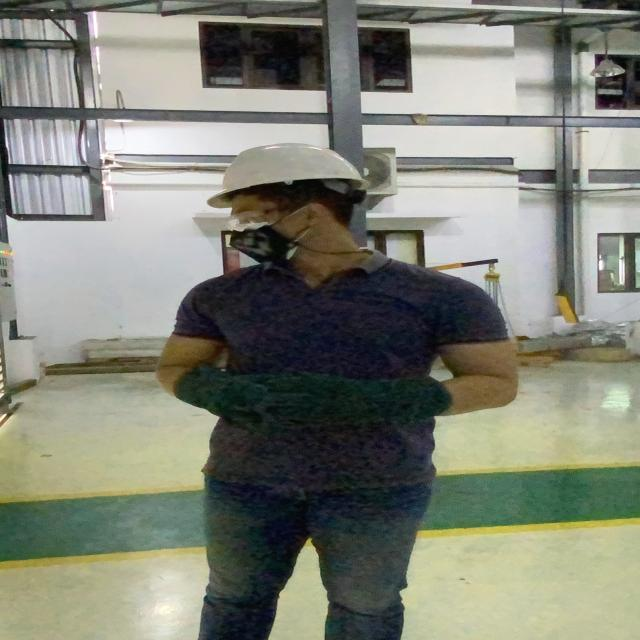face_mask: (215, 205, 301, 262)
glasses: (220, 206, 289, 233)
hand_glove: (244, 366, 377, 431)
head_helmet: (199, 142, 368, 202)
person: (128, 141, 517, 640)
